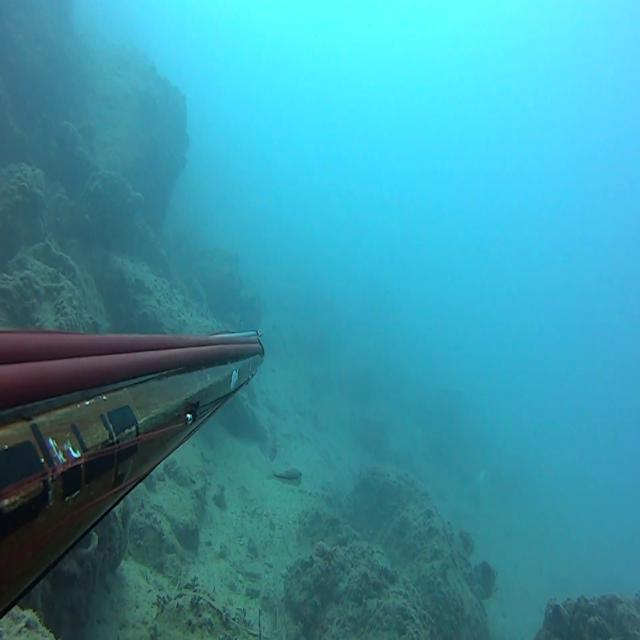Balon Baligi: (268, 468, 302, 487)
